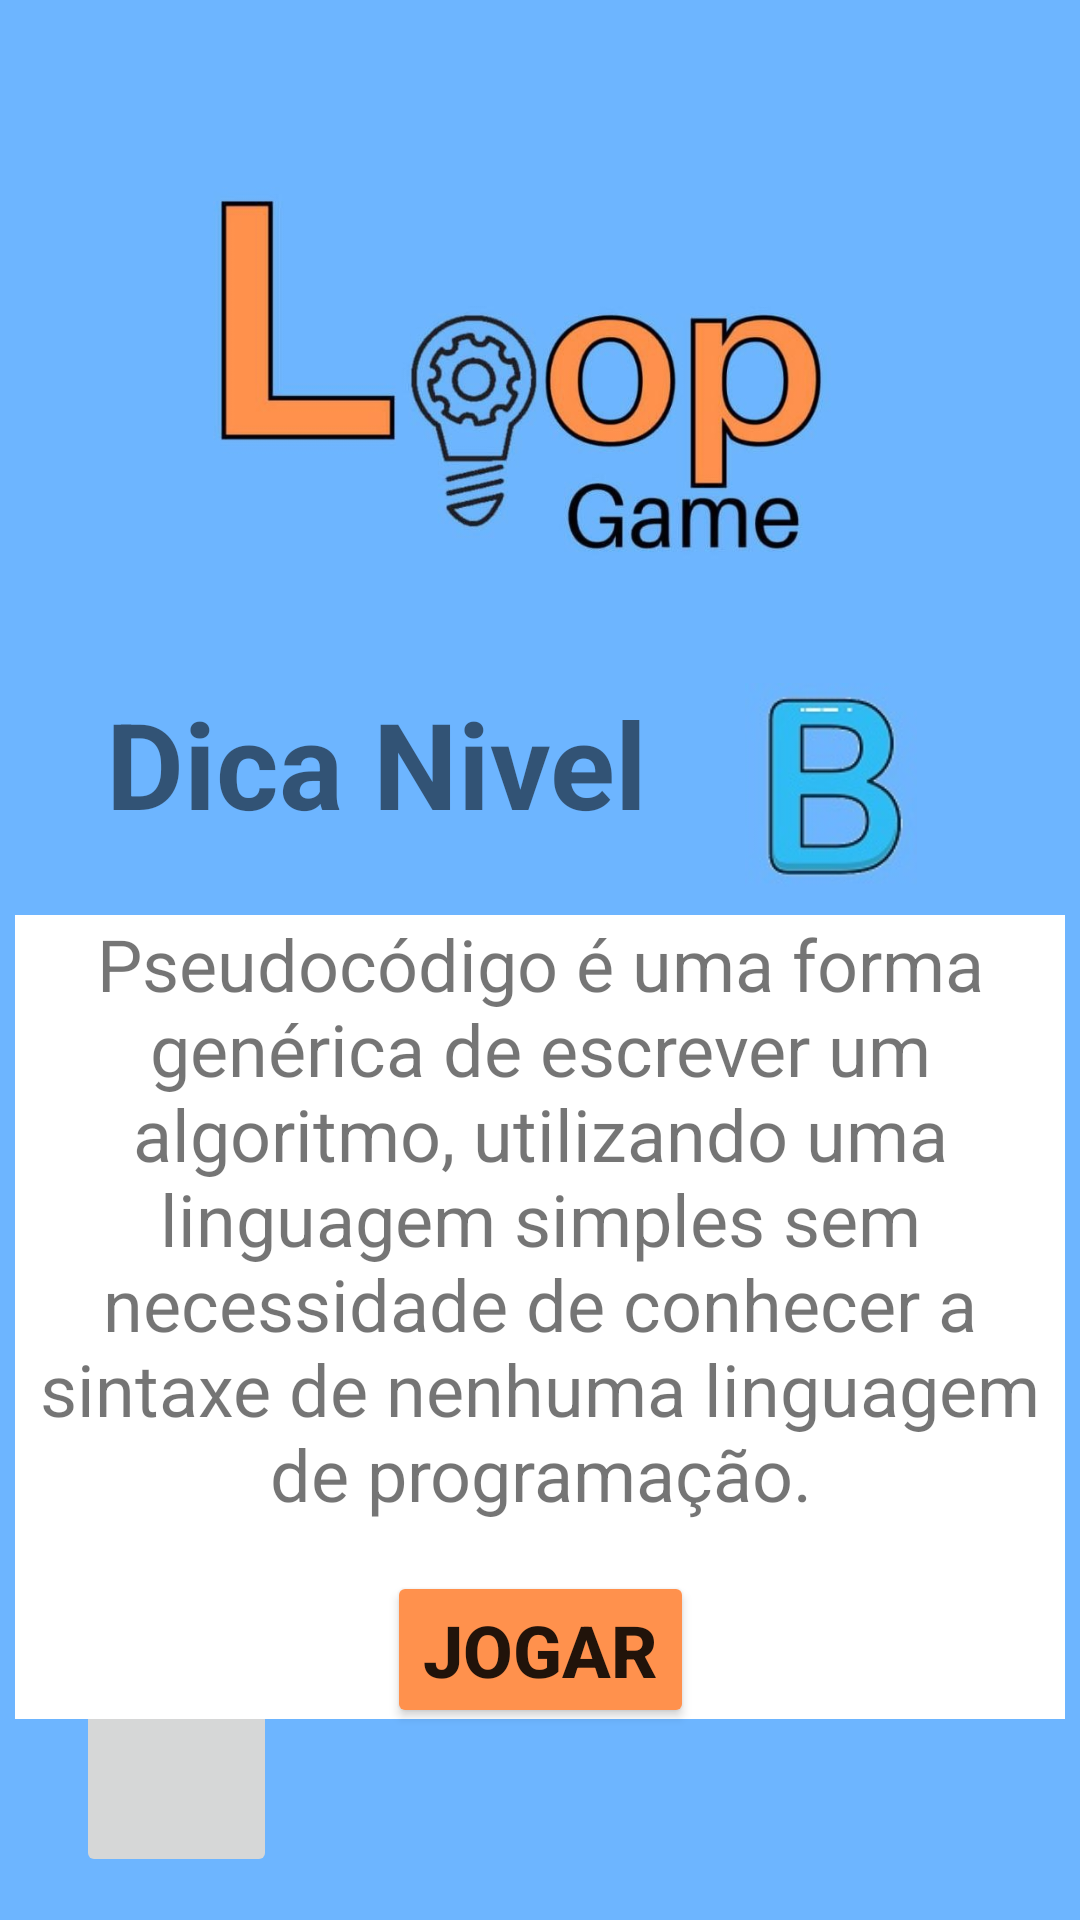

Icons on this 1080×1920 Android screen, each with the point to tap as [x,y]:
bpequeno: [835,786]
